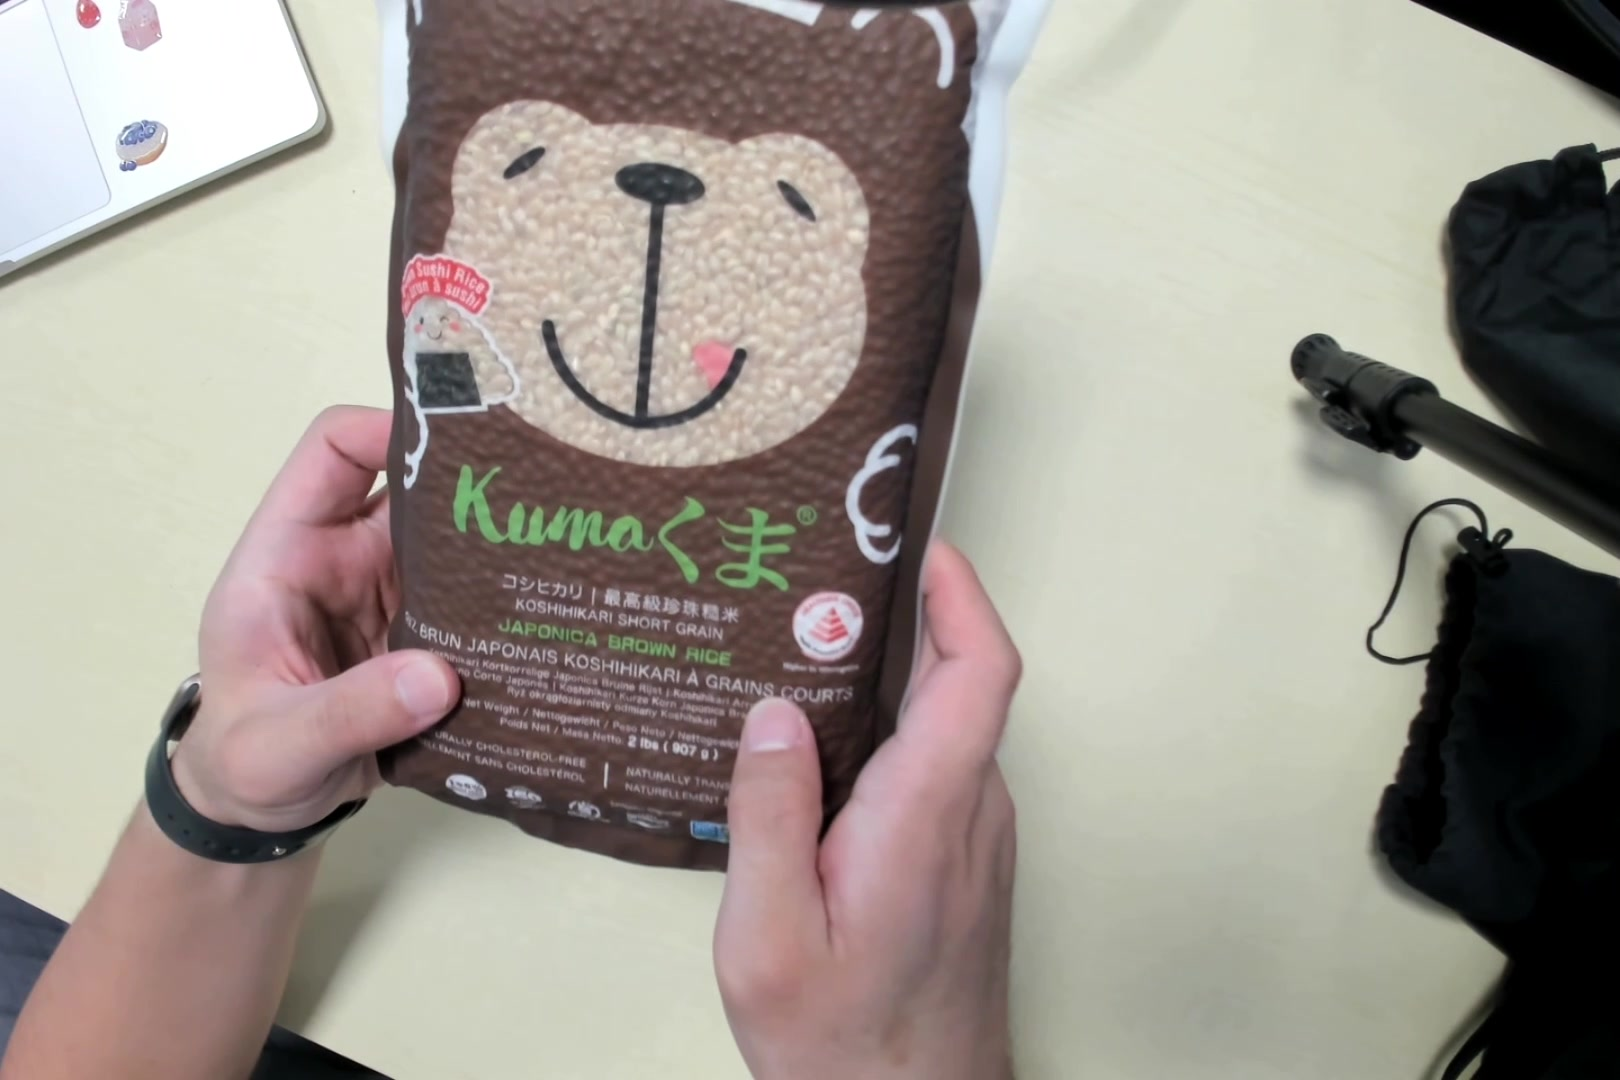Rice(BrownOthers)_500-599g_NonHalal_Healthy: (357, 4, 979, 876)
